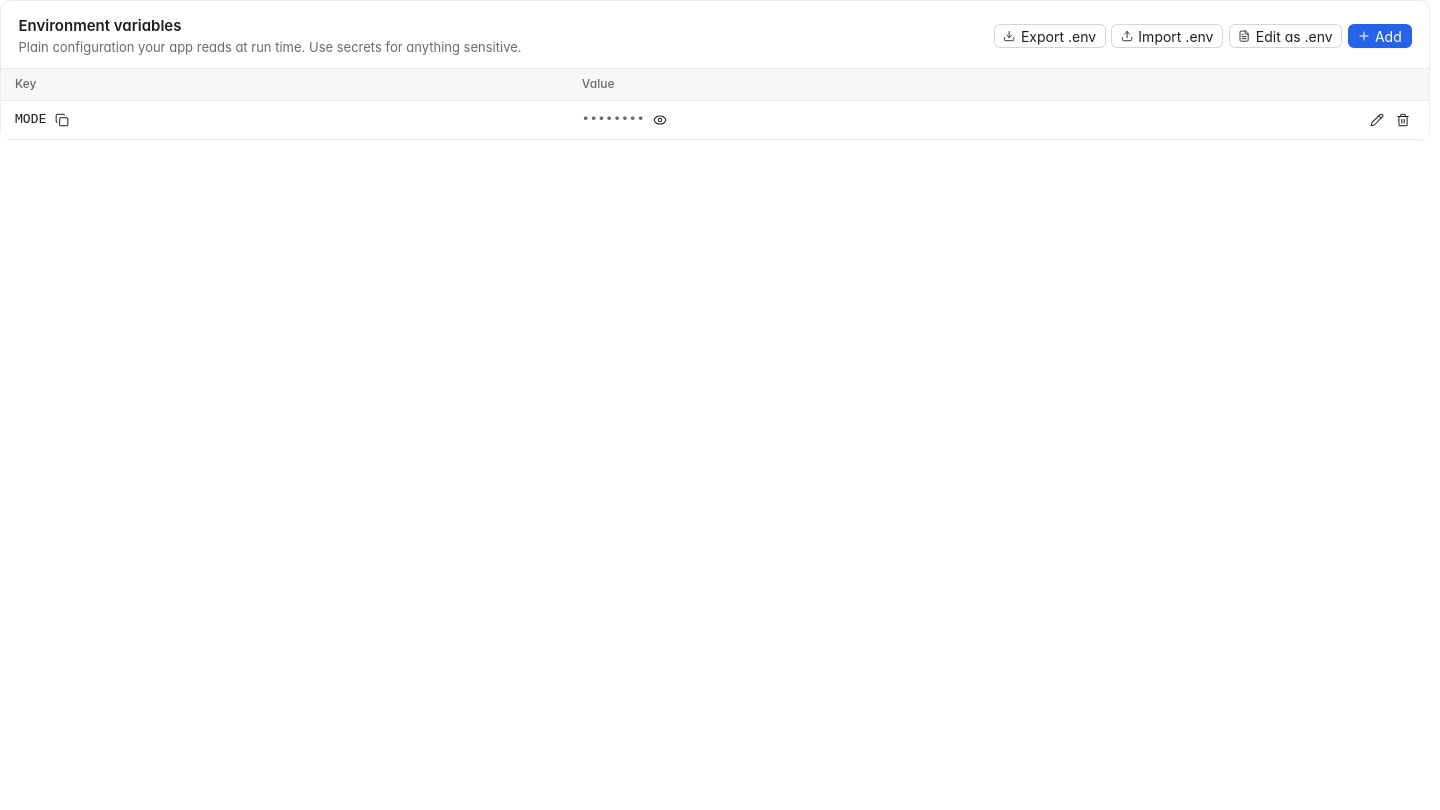
EnvEditor › a write over a stale read gets 412, reloads and keeps the other editor's change
This screenshot has width=1440, height=810.
Check: the text "MODE" is shown, box [15,110,46,129]
Click the button named "Delete MODE". click: click(1403, 120)
box: [1390,108,1415,132]
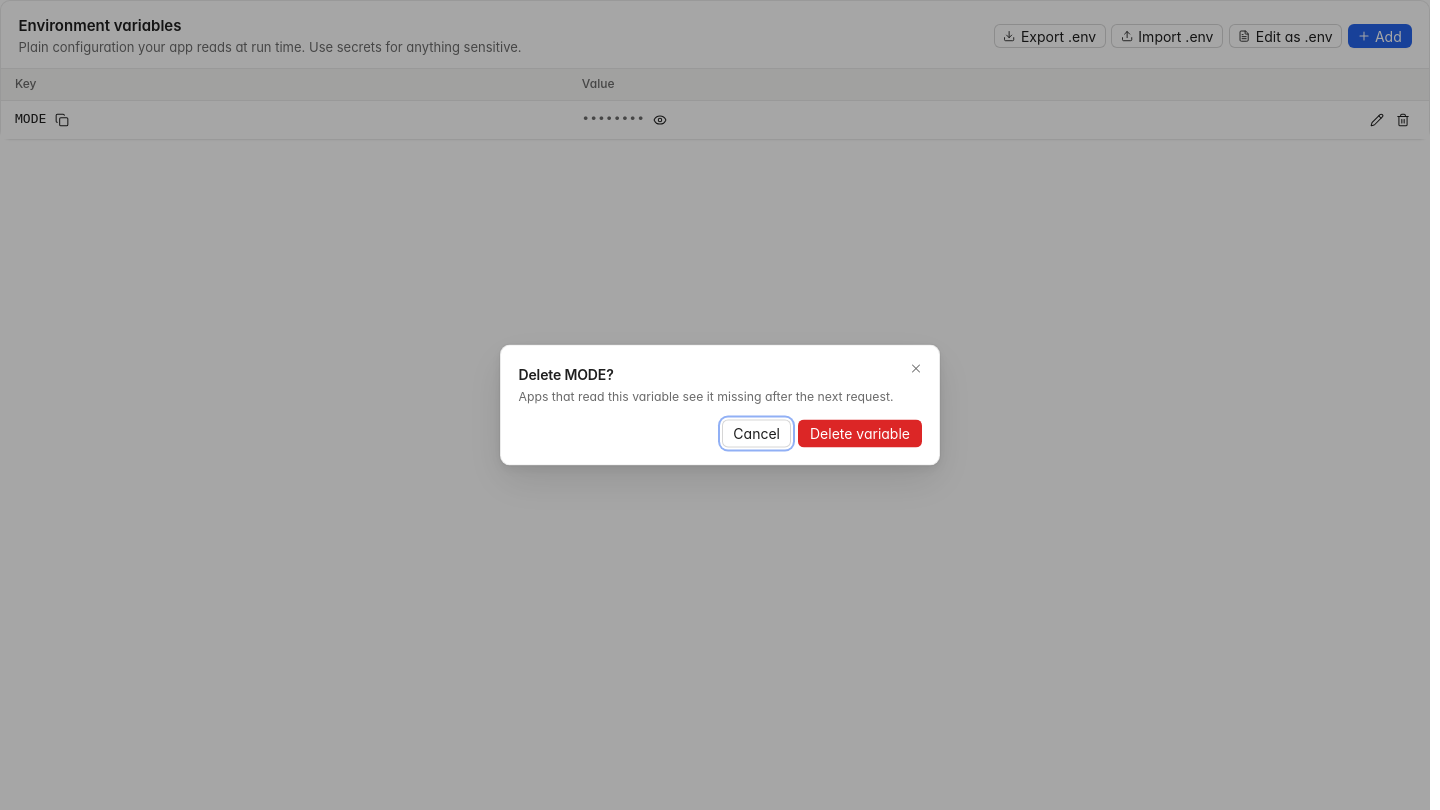
Click the button "Delete variable". click: click(860, 433)
box: [798,419,922,447]
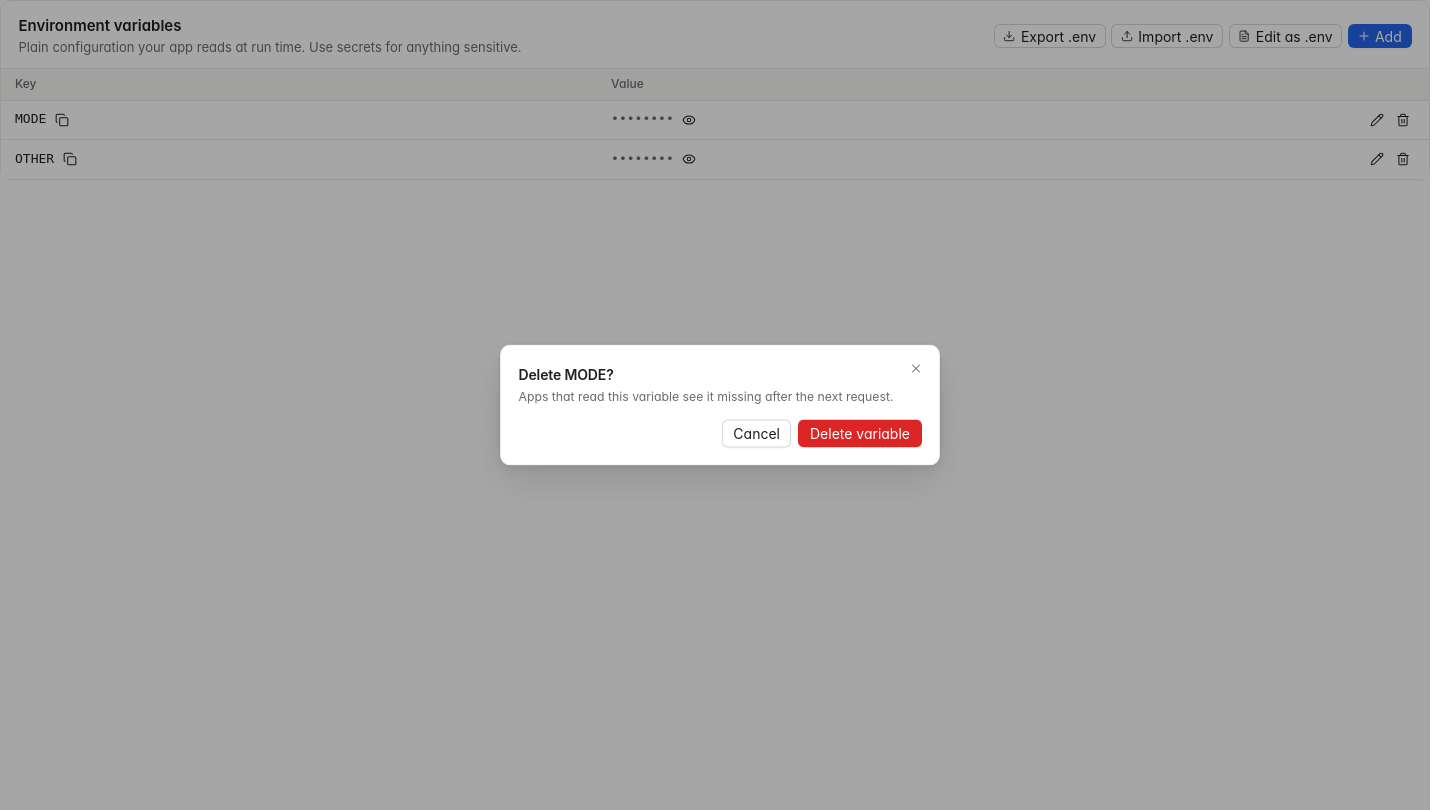
Check: the text "OTHER" is shown, box [15,150,54,169]
